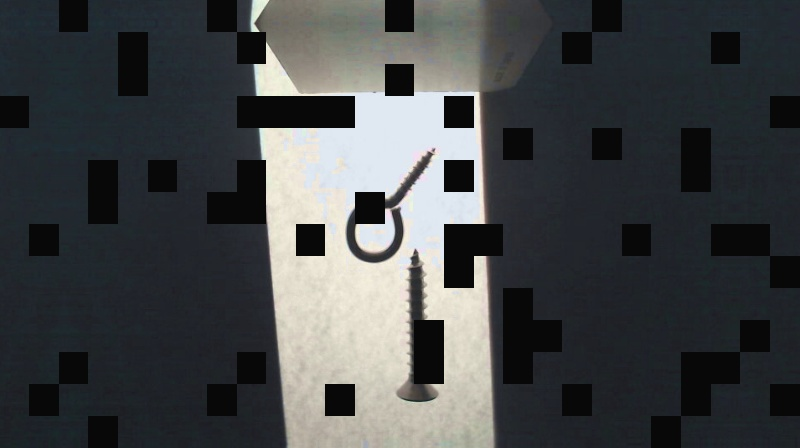O001: (345, 147, 436, 265)
S001: (395, 247, 439, 402)
